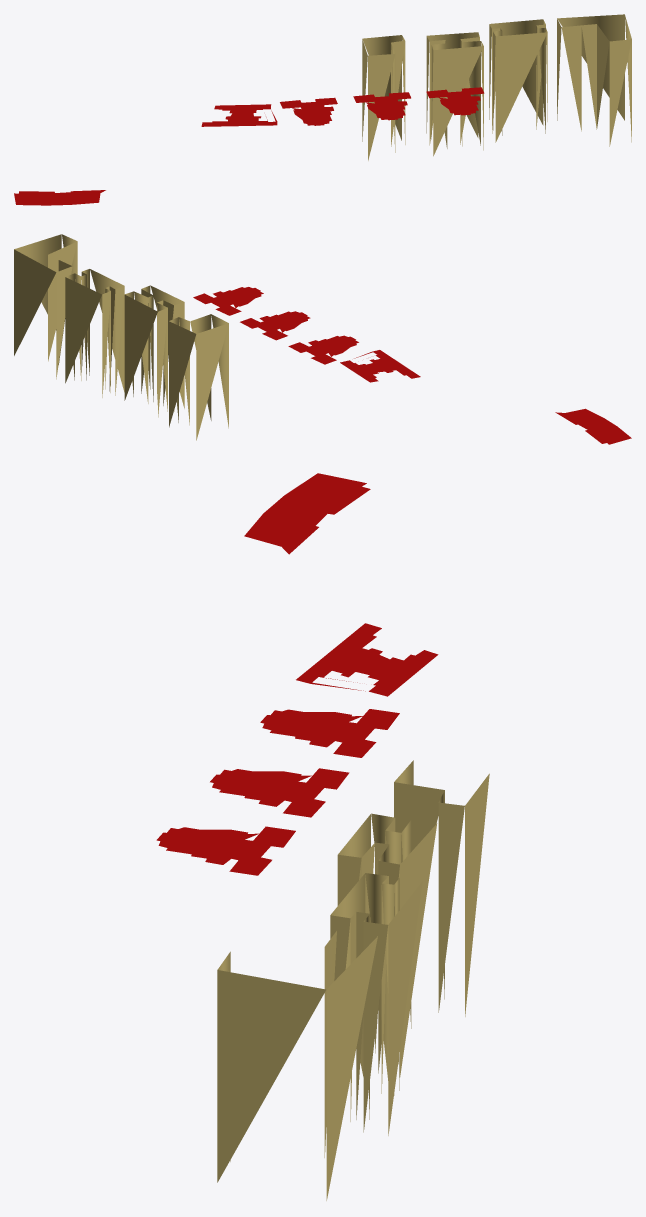
3 renders of one model, top to bottom at view 1: azimuth 30°, elevation 25°; view 2: azimuth 150°, elevation 25°; view 3: azimuth 270°, elevation 25°, orthographic. The views are drawn at different scales.
Bounding box in the file's own units: 600 × 100 × 142.
